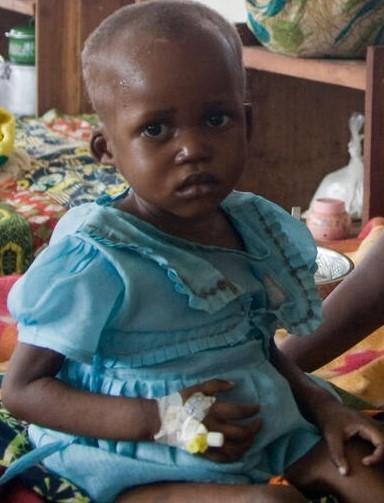Stunting: (60, 0, 288, 220)
